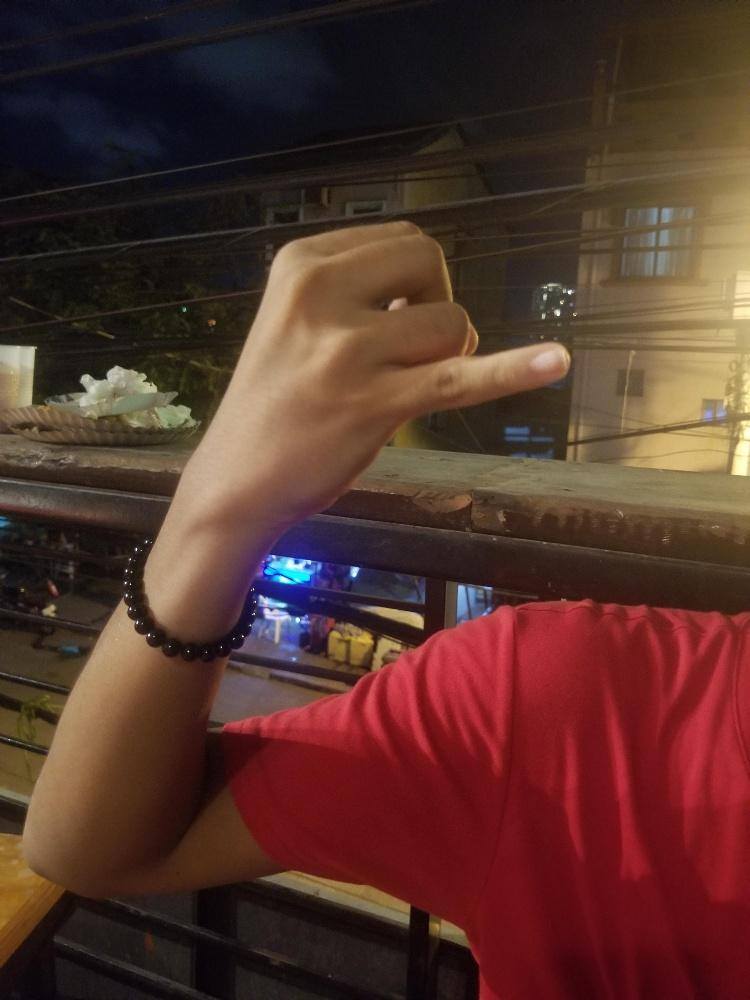j: (232, 217, 572, 527)
